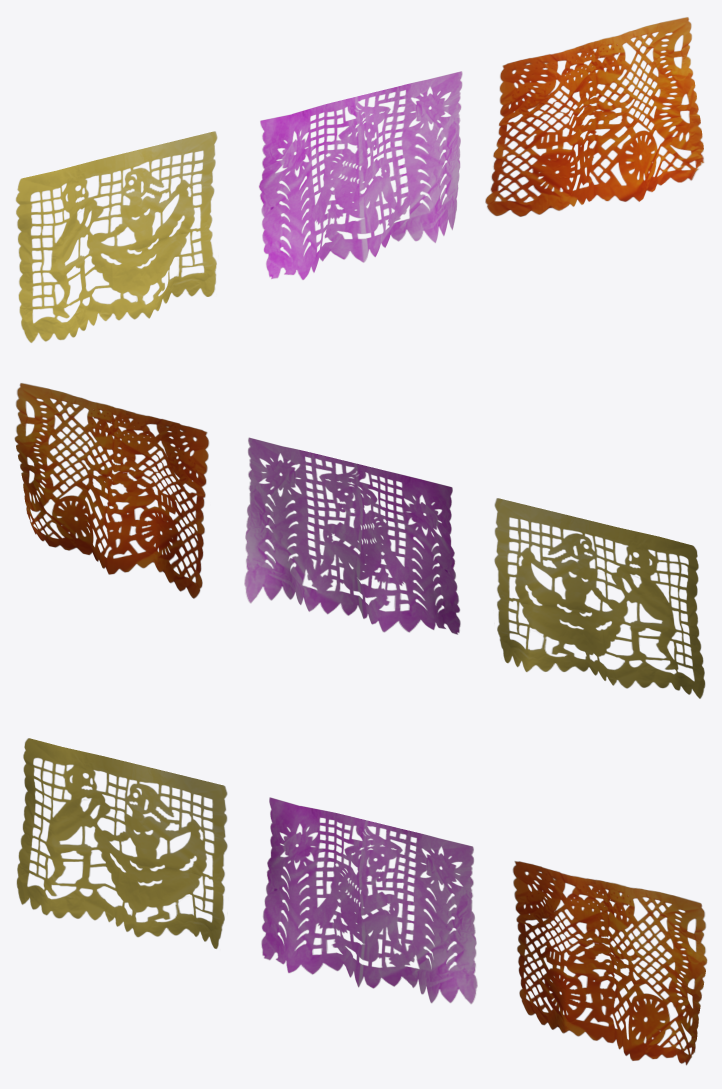
File: papel_picado.glb
3 renders of one model, top to bottom at view 1: azimuth 30°, elevation 25°; view 2: azimuth 150°, elevation 25°; view 3: azimuth 330°, elevation 25°, orthographic.
Parts seen in each view (by area): view 1: Plane.001_0; view 2: Plane.001_0; view 3: Plane.001_0.
Boxes of the visible parts, x1,y1,x2,y2 form: Plane.001_0: (15, 17, 704, 342); Plane.001_0: (14, 383, 705, 698); Plane.001_0: (16, 738, 707, 1065).
Size of the model in its own units: 8.65 by 2.05 by 0.6096.
Materials: 3 (3 with a texture image).
